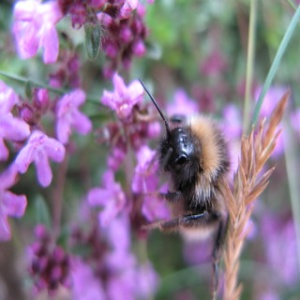bee: (164, 114, 235, 230)
